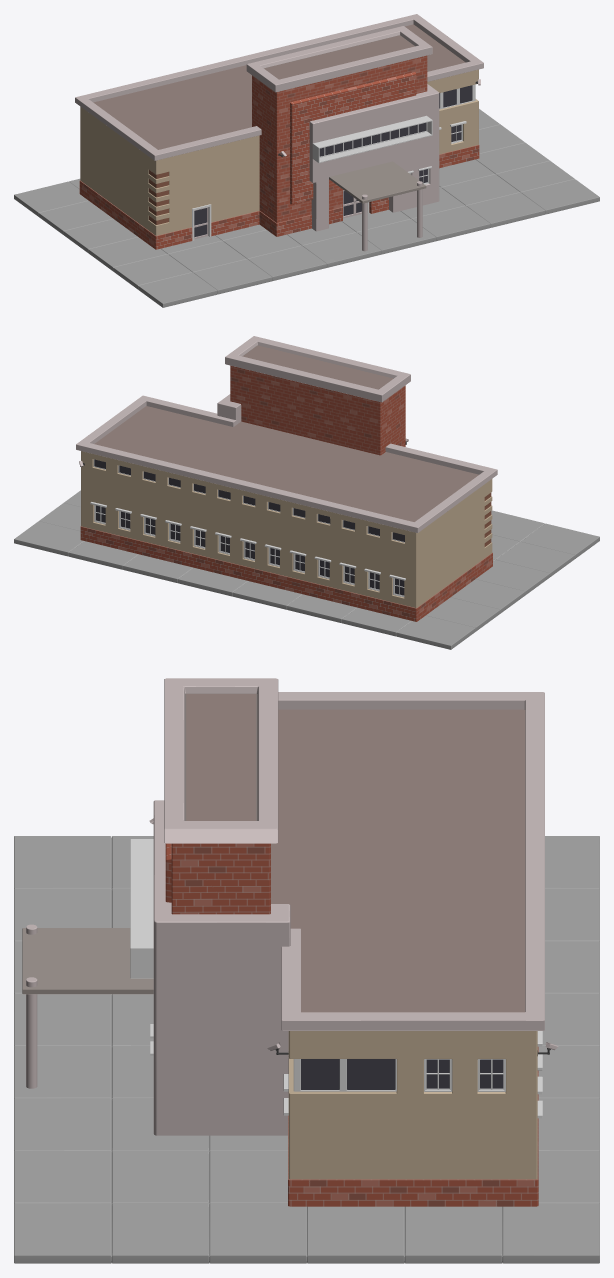
Rendered from station.obj.
The picture shows the model from 3 angles, top to bottom: view 1: azimuth 30°, elevation 25°; view 2: azimuth 150°, elevation 25°; view 3: azimuth 270°, elevation 25°; orthographic projection. The views are drawn at different scales.
Parts seen in each view (by area): view 1: obj1; view 2: obj1; view 3: obj1.
Part boxes in pixels (x1=…): obj1: x1=14, y1=14, x2=599, y2=307; obj1: x1=14, y1=336, x2=599, y2=649; obj1: x1=14, y1=678, x2=599, y2=1263.
Size of the model in its own units: 7.15 by 2.47 by 4.22.
1 material, 1 textured.
